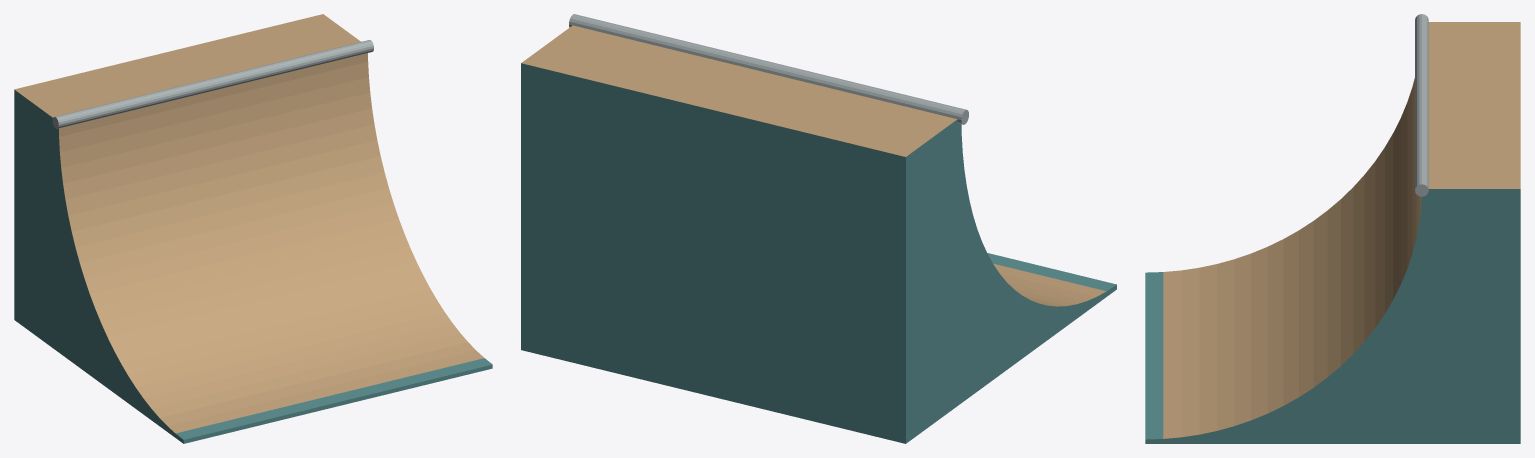
3 renders of one model, left to right at view 1: azimuth 30°, elevation 25°; view 2: azimuth 150°, elevation 25°; view 3: azimuth 270°, elevation 25°, orthographic. The views are drawn at different scales.
Visible parts, largest first — view 1: WholeConcaveBankSideCheeksRearAndTopPlatform, WholeTransverseTopCoping; view 2: WholeConcaveBankSideCheeksRearAndTopPlatform, WholeTransverseTopCoping; view 3: WholeConcaveBankSideCheeksRearAndTopPlatform, WholeTransverseTopCoping.
Boxes of the visible parts, <box> form: WholeConcaveBankSideCheeksRearAndTopPlatform: <box>14,14,492,443</box>; WholeTransverseTopCoping: <box>52,40,373,128</box>; WholeConcaveBankSideCheeksRearAndTopPlatform: <box>521,25,1116,443</box>; WholeTransverseTopCoping: <box>569,14,968,124</box>; WholeConcaveBankSideCheeksRearAndTopPlatform: <box>1145,22,1520,443</box>; WholeTransverseTopCoping: <box>1415,14,1428,196</box>.
Bounding box in the file's own units: 2.04 × 1.46 × 1.9.
